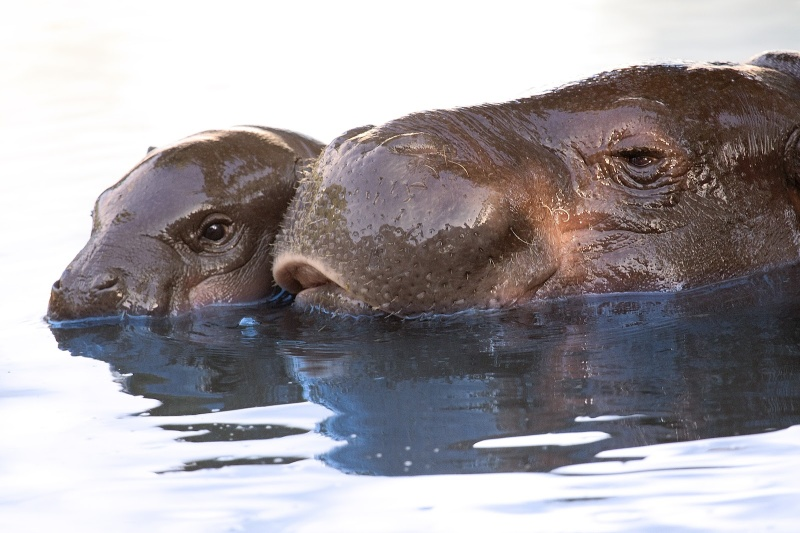hipopotamo: (267, 51, 800, 313), (49, 124, 337, 329)
